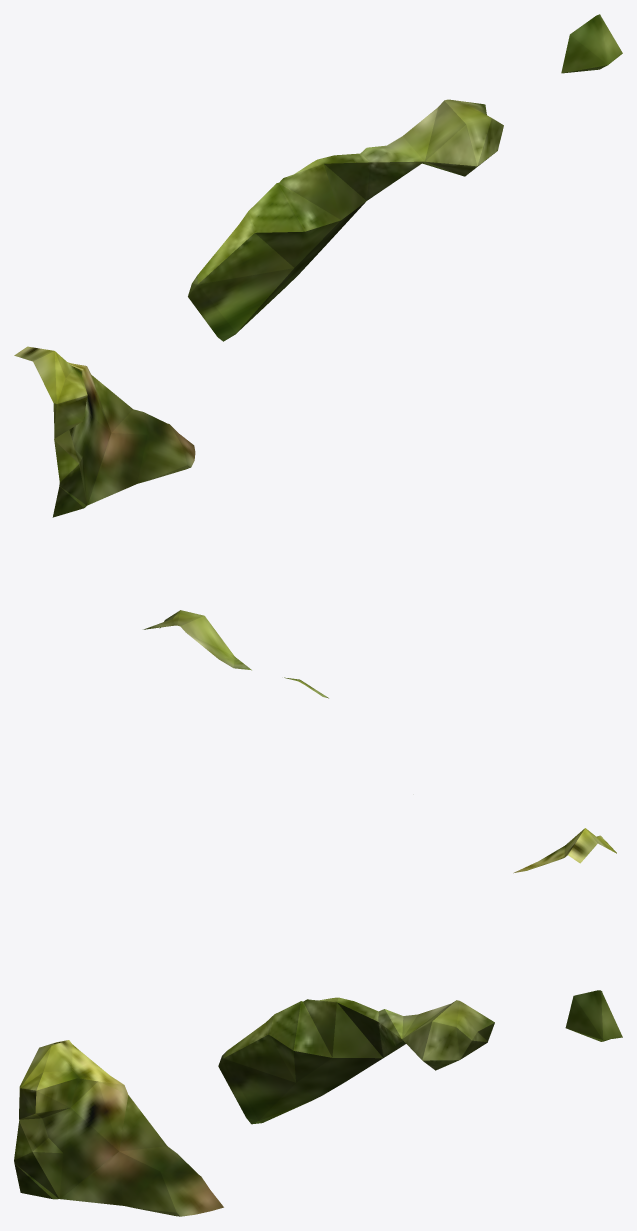
3 views of the same model, one above another, from view 1: azimuth 30°, elevation 25°; view 2: azimuth 150°, elevation 25°; view 3: azimuth 330°, elevation 25° (orthographic). The views are drawn at different scales.
Size of the model in its own units: 1.34 by 0.6999 by 0.1822.
1 material, 1 textured.
